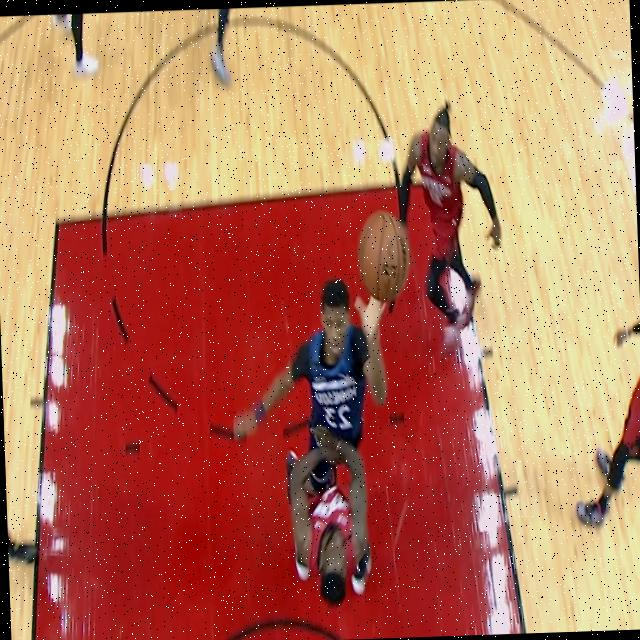Foul: (286, 292, 375, 622)
